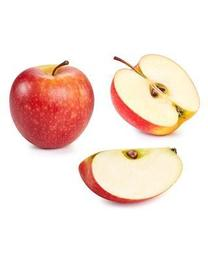apple: (9, 60, 94, 149), (110, 53, 200, 135), (77, 147, 182, 203)
